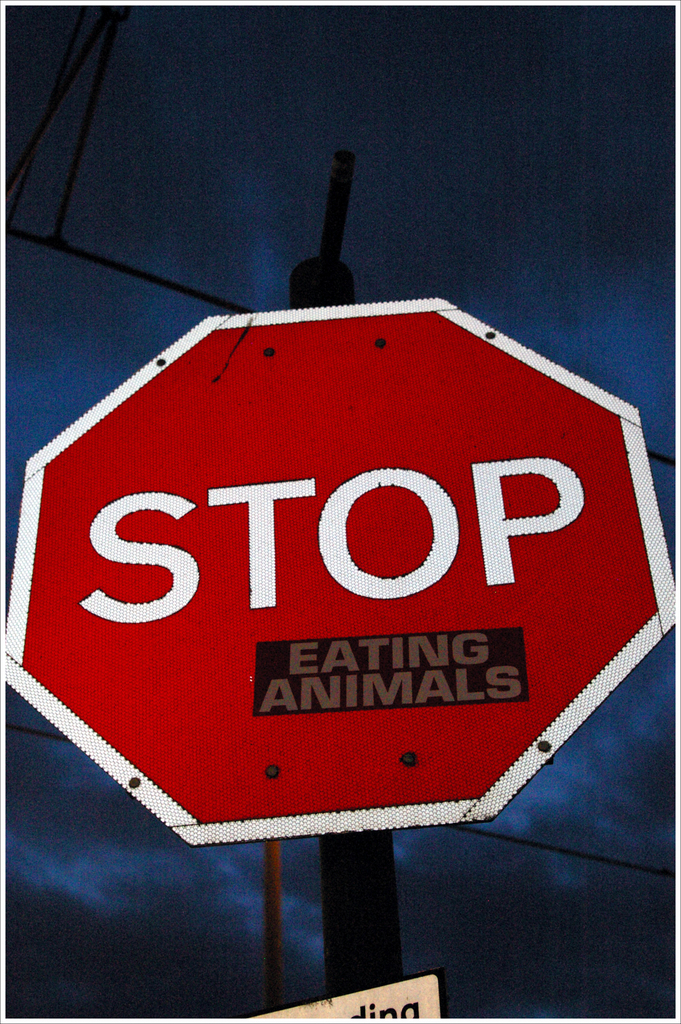stop_sign: (11, 298, 673, 840)
